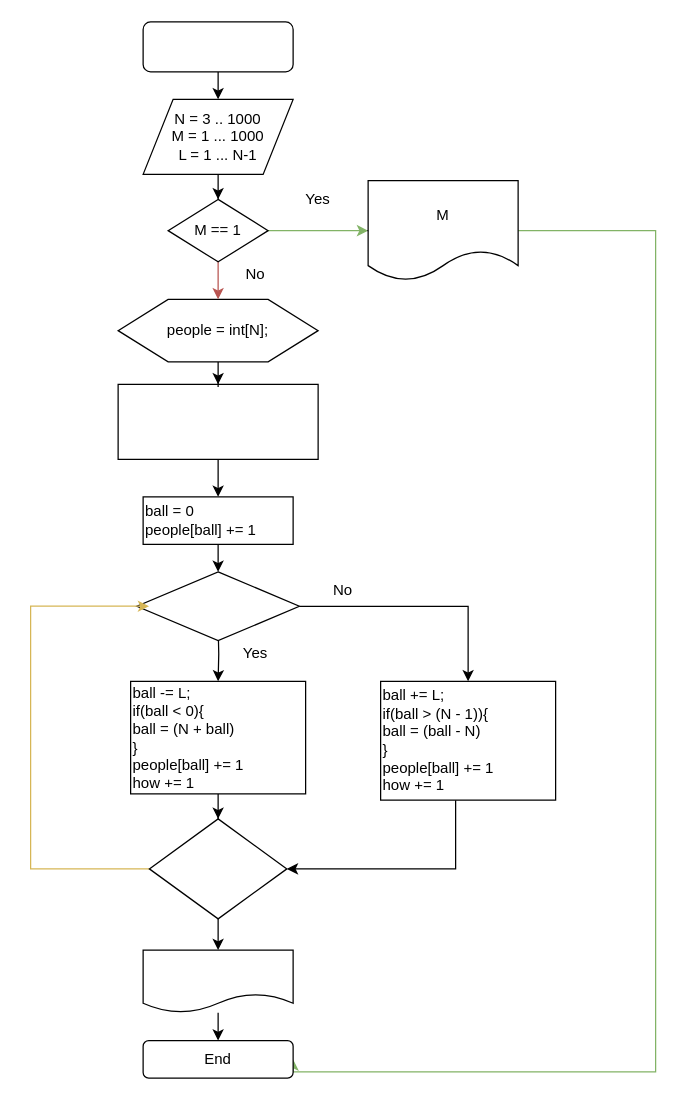
Some shapes in this 688 by 1104 pixel diagram are drawn without their labels. The shapes that lost their labels are listed below. From the top down, each one's centre as x and y in pixels, then its label:
point 217,46: Start
point 217,421: for(int i = 0; i < N; i++){ people[i] = 0; }
point 217,606: people[ball] % 2 == 0
point 217,868: M == people[ball]
point 217,981: how
